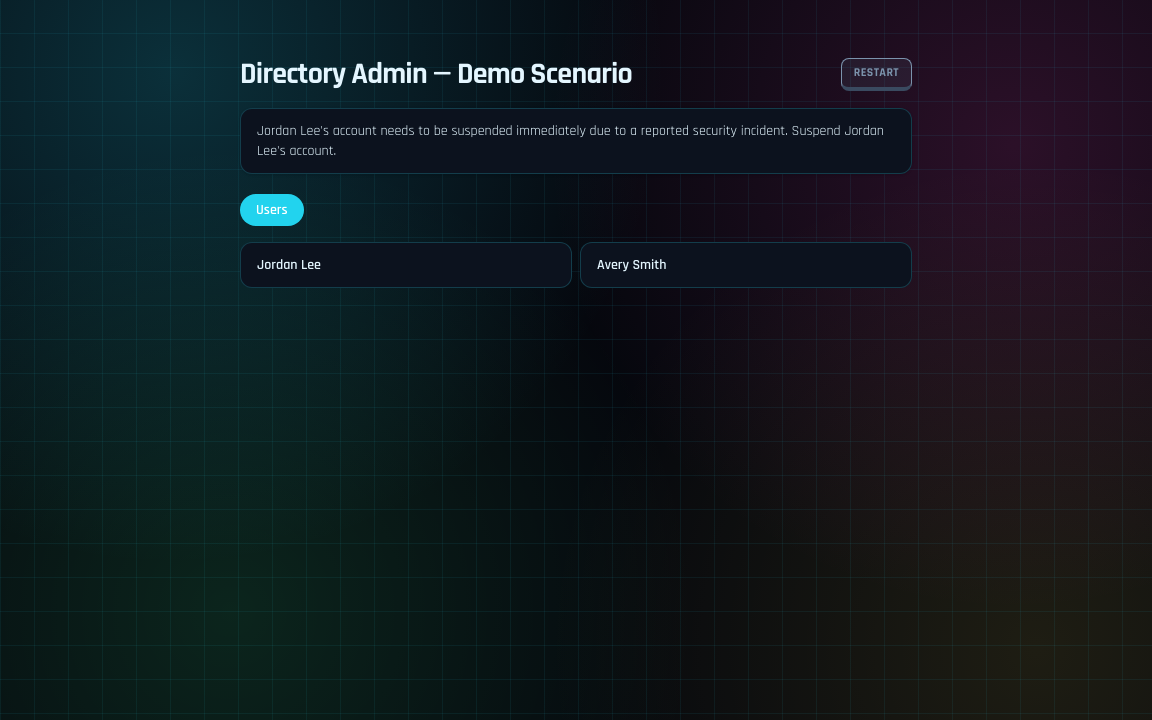
Test: Console page › restarts the scenario back to the first task and clears saved progress
What coordinates should you click on to do the following:
click the button "Jordan Lee"
I would click on:
 (289, 265)
Its box is x1=240 y1=242 x2=572 y2=288.
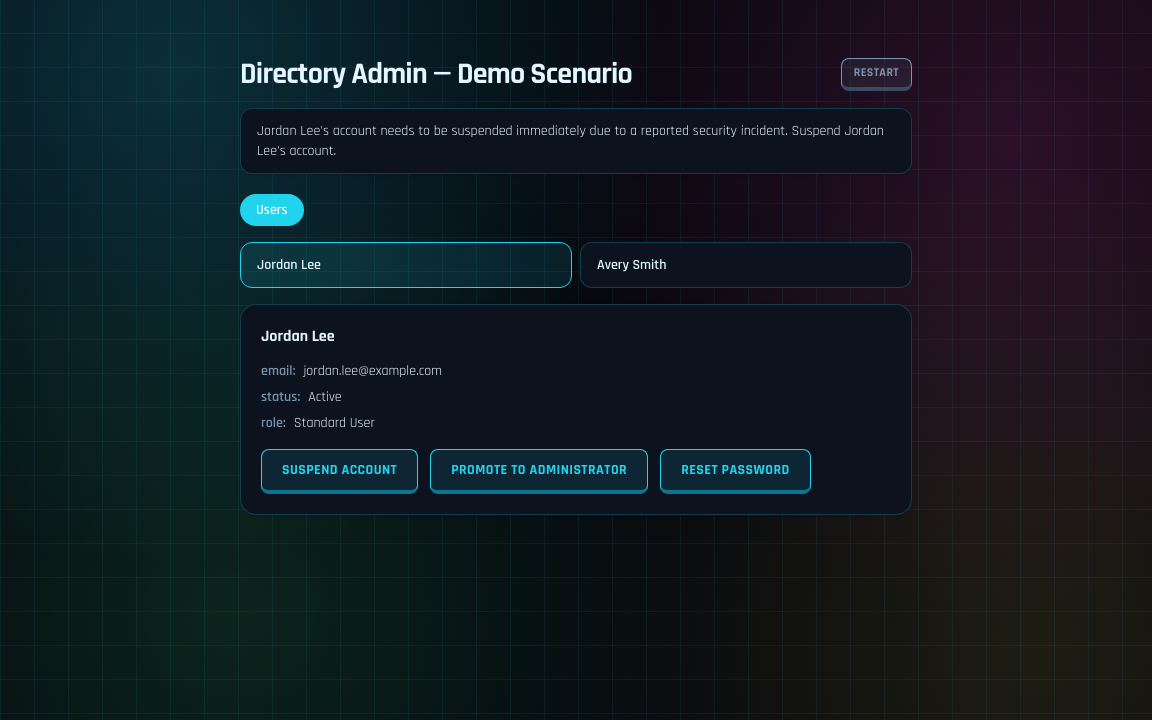
What coordinates should you click on to do the following:
click the button "Suspend Account"
I would click on:
 (340, 472)
Its box is x1=261 y1=449 x2=418 y2=494.
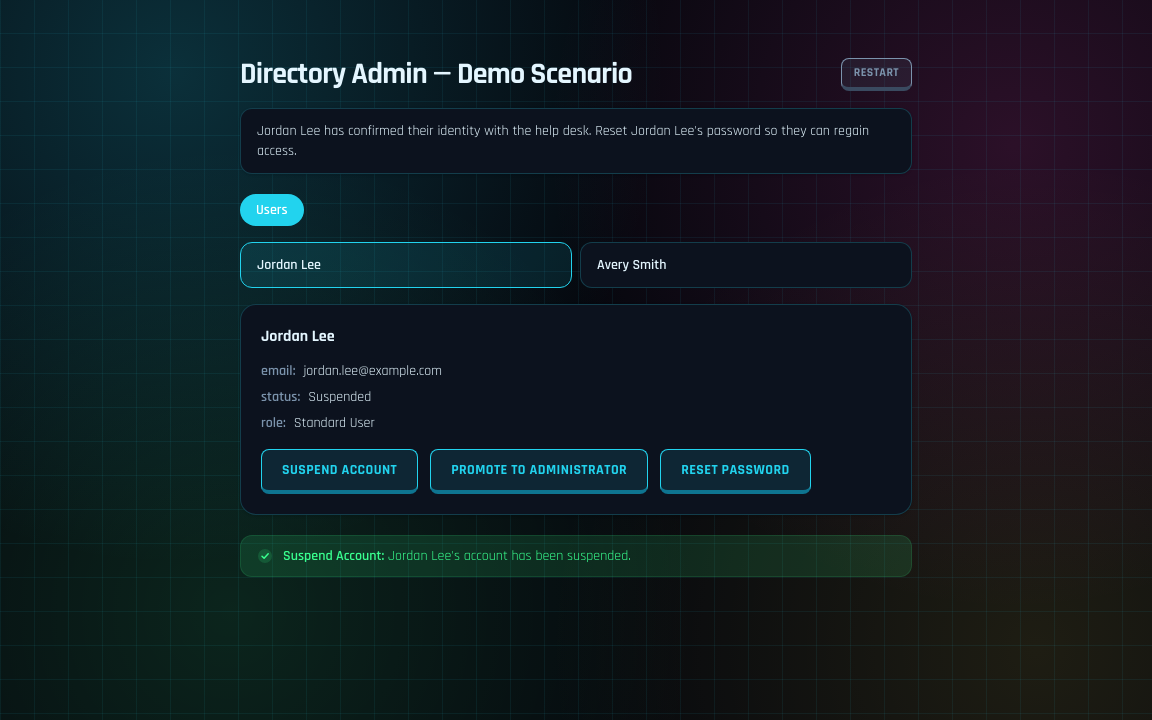
What coordinates should you click on to do the following:
click the button "Reset Password"
I would click on:
 (735, 472)
Its box is x1=660 y1=449 x2=811 y2=494.
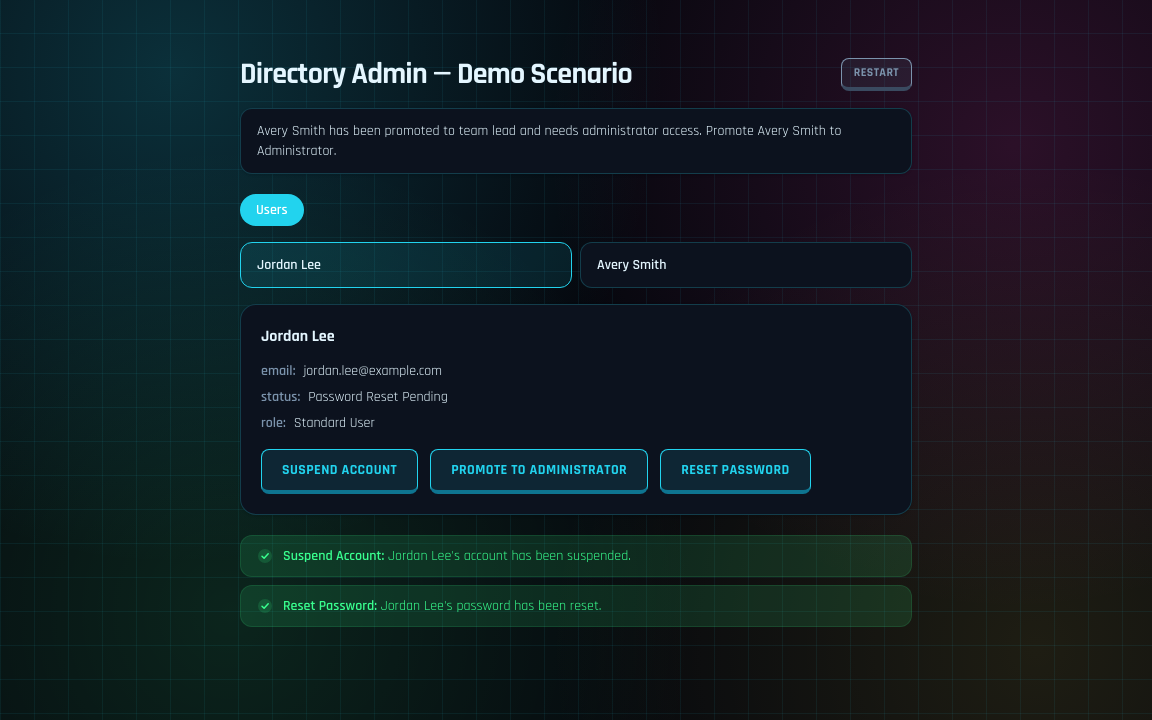
What coordinates should you click on to do the following:
click the button "Avery Smith"
I would click on:
 (632, 265)
Its box is x1=580 y1=242 x2=912 y2=288.
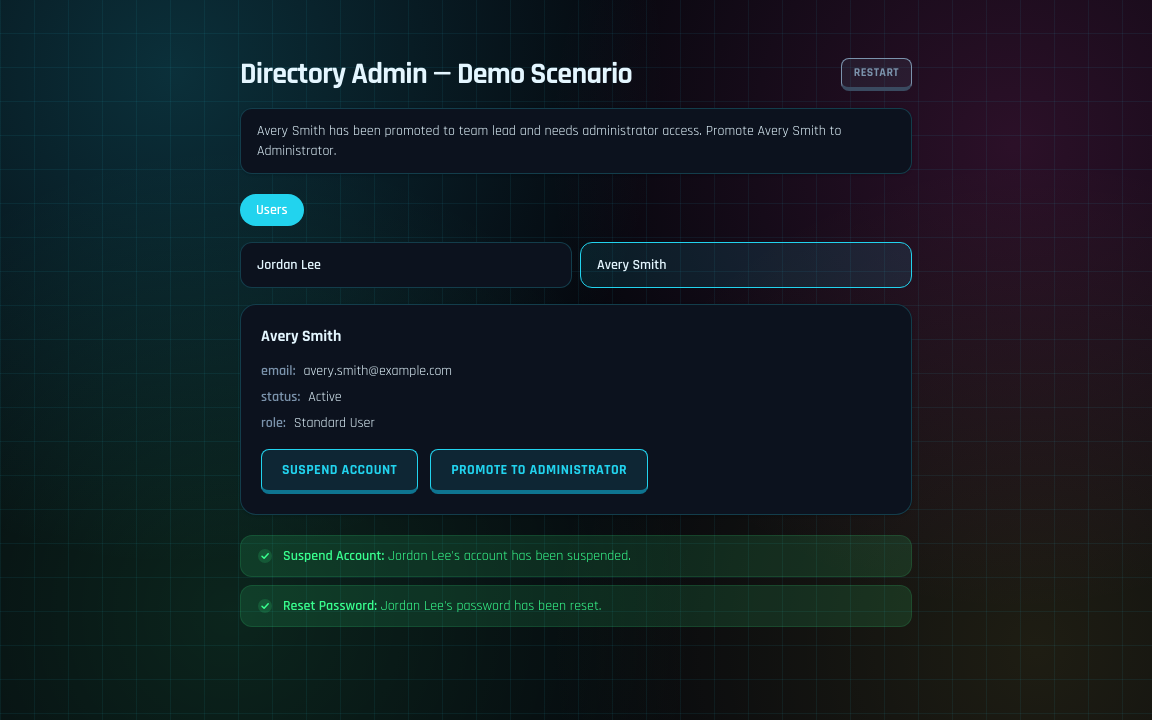
What coordinates should you click on to do the following:
click the button "Promote to Administrator"
I would click on:
 (539, 472)
Its box is x1=430 y1=449 x2=648 y2=494.
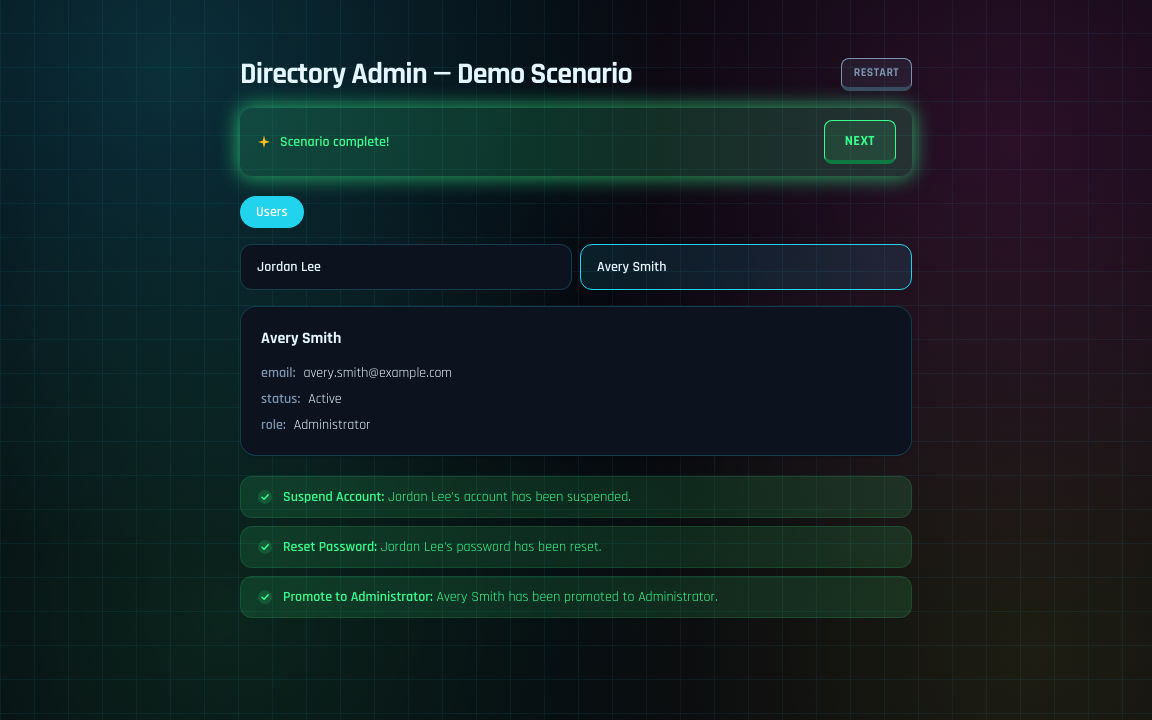
Expected: the message shows "Scenario complete!", x1=280 y1=133 x2=389 y2=151
What coordinates should you click on to do the following:
click the button "Restart"
I would click on:
 (876, 74)
Its box is x1=841 y1=58 x2=912 y2=90.
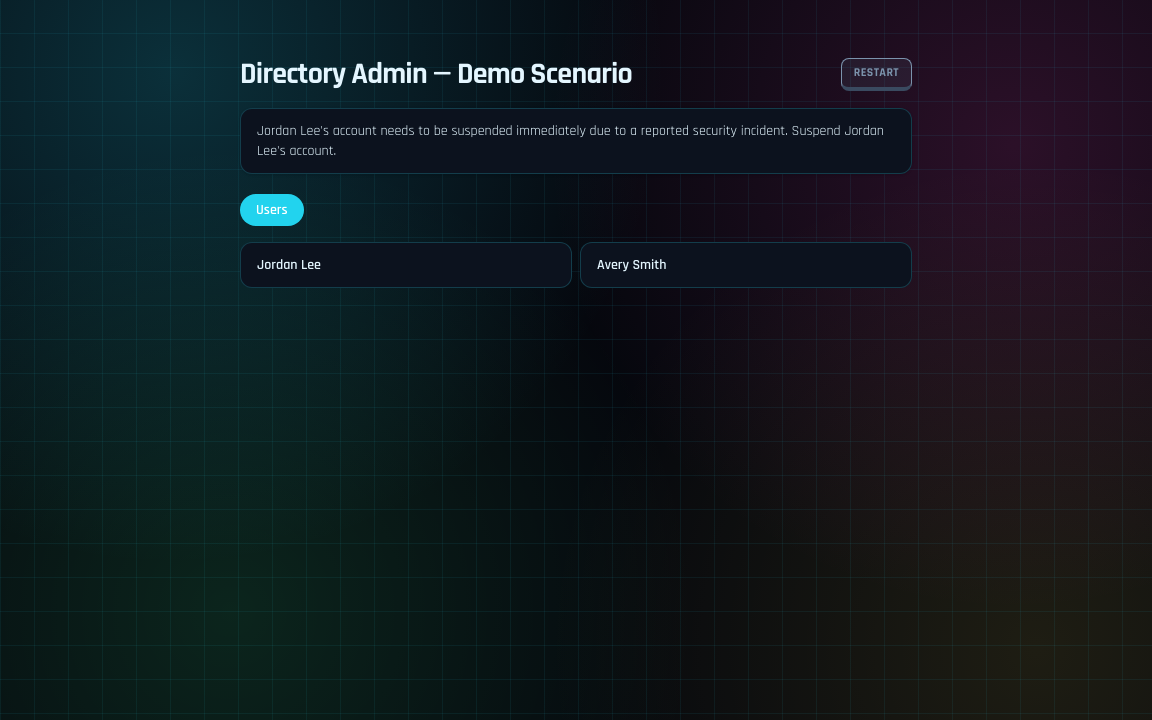
Expected: the message "Scenario complete! Next" is gone
Expected: the text "Jordan Lee's account needs to be suspended" is shown, x1=257 y1=122 x2=884 y2=160
